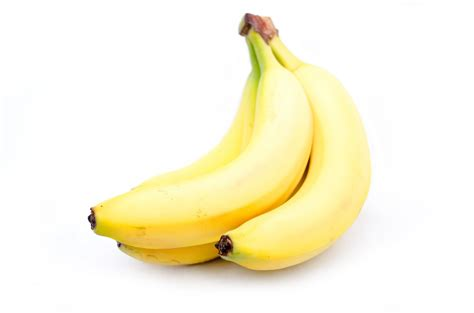banana: (84, 64, 317, 238), (217, 60, 370, 268)
